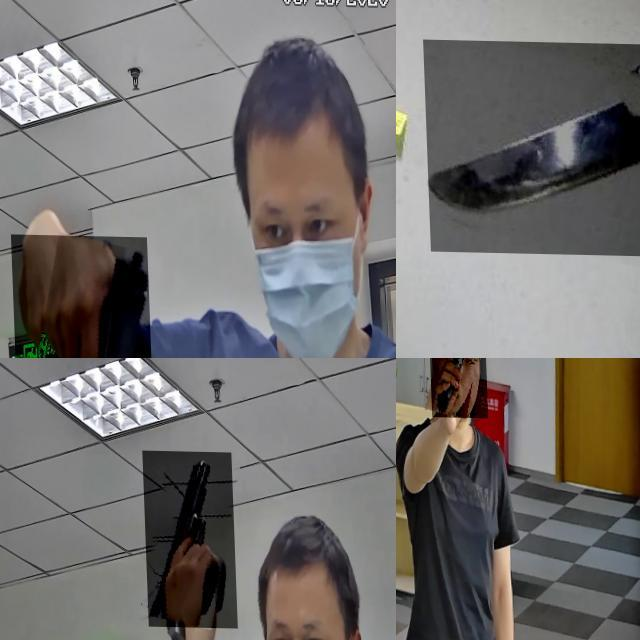-: (420, 38, 640, 255)
gun-knife-thesis - v11 Yolov5 augmented: (8, 233, 154, 358), (141, 450, 235, 627), (425, 358, 485, 429)
